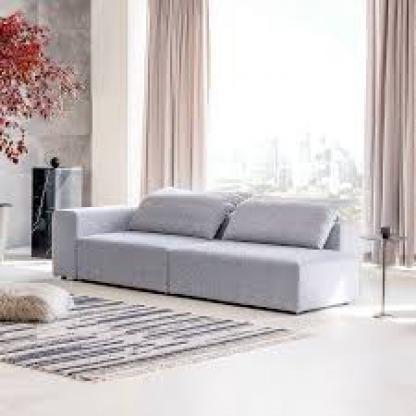sofa: (43, 187, 364, 316)
